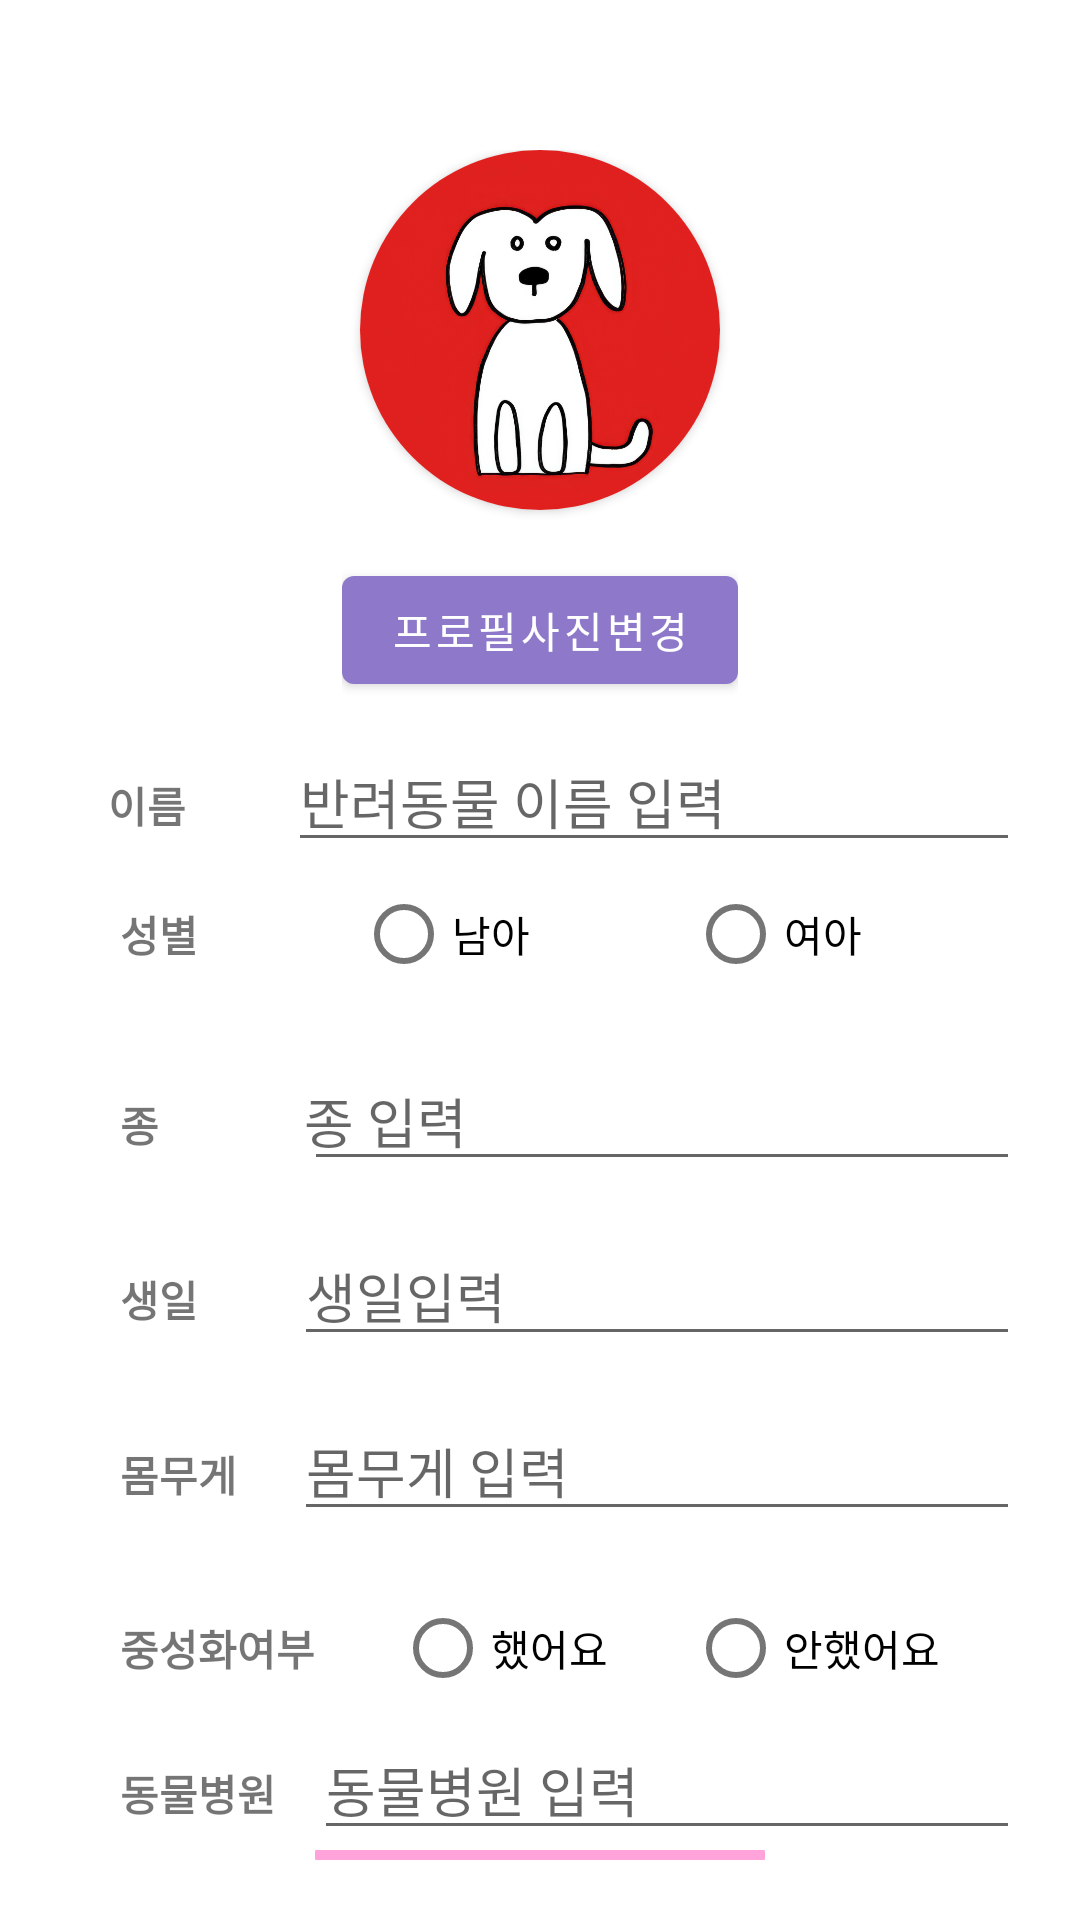

Named icons in this screenshot (1080×1920) and their centers, [x,y]:
mypet: [540,330]
